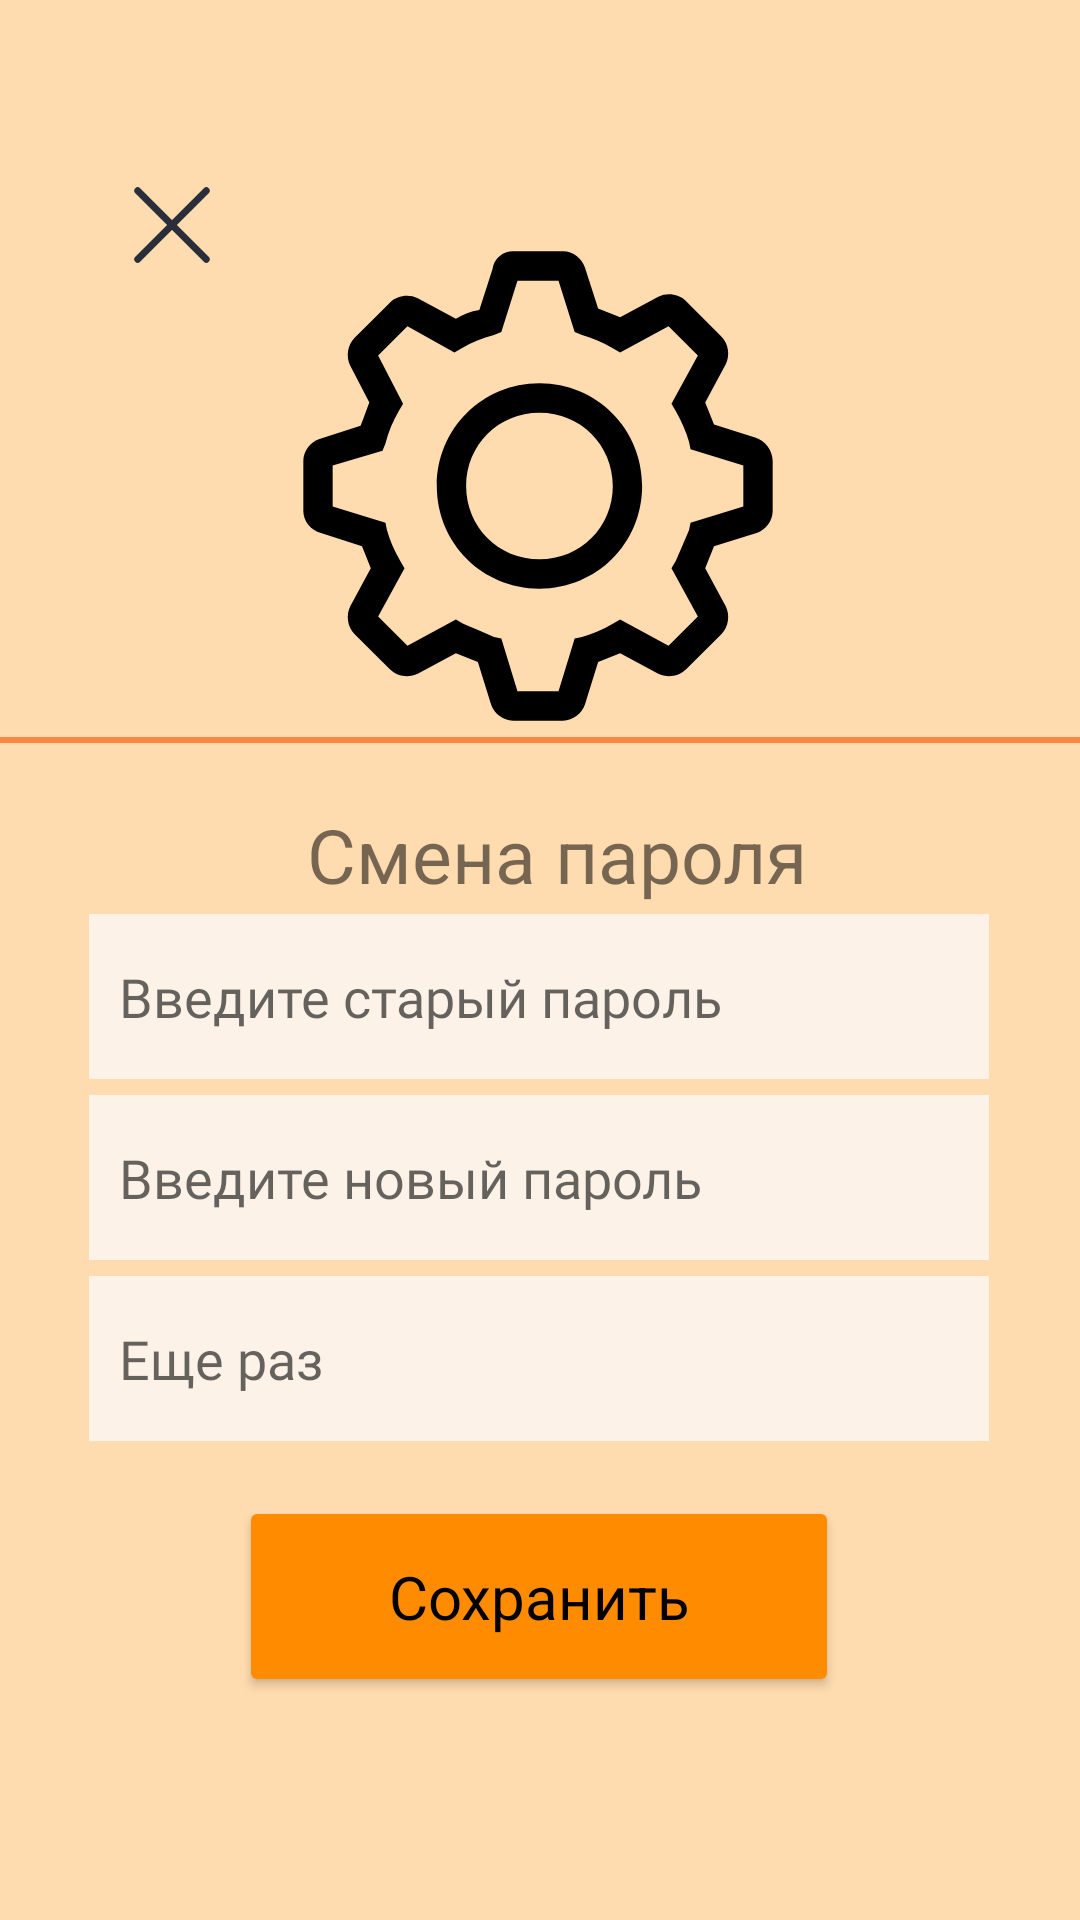

Screen size 1080px x 1920px. Icon name, then its center in pixels as [x,y]:
cross: [172,225]
